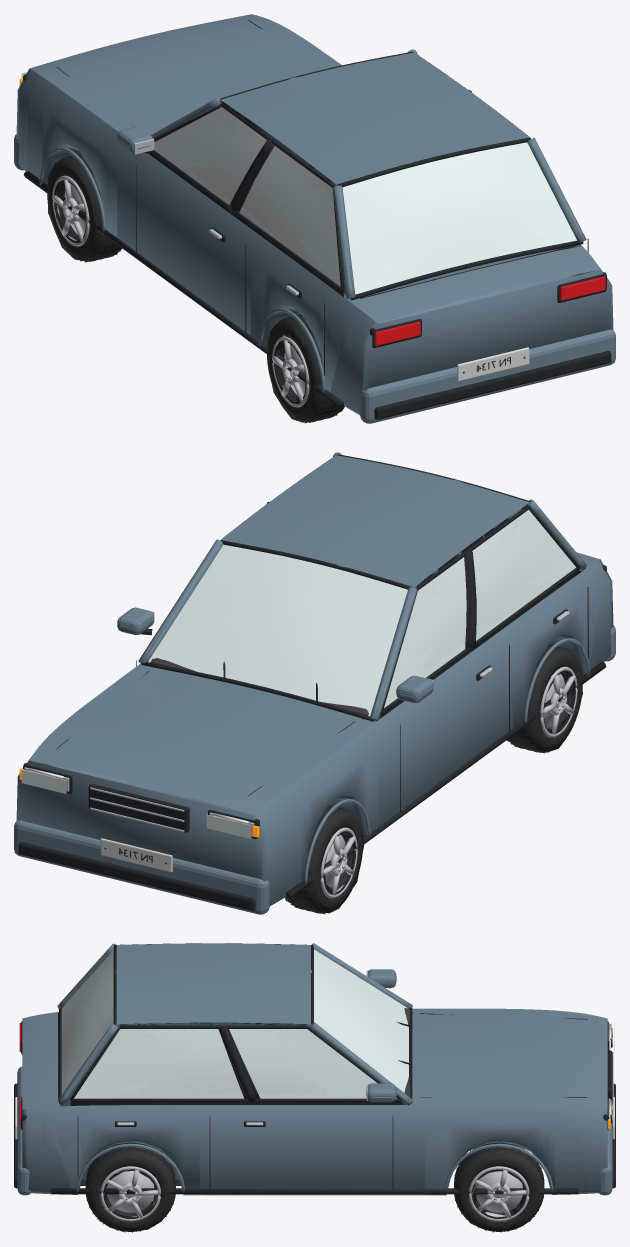
Rendered from VehicleHatch.fbx.
3 renders of one model, top to bottom at view 1: azimuth 30°, elevation 25°; view 2: azimuth 150°, elevation 25°; view 3: azimuth 270°, elevation 25°, orthographic. The views are drawn at different scales.
Visible parts, largest first — view 1: VehicleHatch_Body_LOD0_Export, VehicleHatch_Glass_LOD0_Export, VehicleHatch_Body_LOD1_Export, VehicleHatch_Body_LOD2_Export, VehicleHatch_Glass_LOD1_Export, VehicleHatch_Glass_LOD2_Export, VehicleHatch_Wheel_0_LOD0_Export, VehicleHatch_Wheel_1_LOD0_Export, VehicleHatch_Wheel_0_LOD1_Export, VehicleHatch_Wheel_1_LOD1_Export, VehicleHatch_Wheel_1_LOD2_Export, VehicleHatch_Wheel_0_LOD2_Export; view 2: VehicleHatch_Body_LOD0_Export, VehicleHatch_Glass_LOD0_Export, VehicleHatch_Body_LOD2_Export, VehicleHatch_Body_LOD1_Export, VehicleHatch_Glass_LOD1_Export, VehicleHatch_Glass_LOD2_Export, VehicleHatch_Wheel_0_LOD0_Export, VehicleHatch_Wheel_1_LOD0_Export, VehicleHatch_Wheel_1_LOD1_Export, VehicleHatch_Wheel_0_LOD1_Export, VehicleHatch_Wheel_1_LOD2_Export, VehicleHatch_Wheel_0_LOD2_Export; view 3: VehicleHatch_Body_LOD0_Export, VehicleHatch_Glass_LOD0_Export, VehicleHatch_Body_LOD2_Export, VehicleHatch_Body_LOD1_Export, VehicleHatch_Glass_LOD1_Export, VehicleHatch_Wheel_3_LOD0_Export, VehicleHatch_Wheel_2_LOD0_Export, VehicleHatch_Glass_LOD2_Export, VehicleHatch_Wheel_2_LOD1_Export, VehicleHatch_Wheel_3_LOD1_Export, VehicleHatch_Wheel_2_LOD2_Export, VehicleHatch_Wheel_3_LOD2_Export.
Boxes of the visible parts, <box> form: VehicleHatch_Body_LOD0_Export: <box>14,14,615,423</box>; VehicleHatch_Glass_LOD0_Export: <box>21,71,576,294</box>; VehicleHatch_Body_LOD1_Export: <box>16,16,615,423</box>; VehicleHatch_Body_LOD2_Export: <box>15,21,614,422</box>; VehicleHatch_Glass_LOD1_Export: <box>154,107,569,289</box>; VehicleHatch_Glass_LOD2_Export: <box>157,108,563,284</box>; VehicleHatch_Wheel_0_LOD0_Export: <box>267,314,343,423</box>; VehicleHatch_Wheel_1_LOD0_Export: <box>47,153,121,262</box>; VehicleHatch_Wheel_0_LOD1_Export: <box>267,319,343,422</box>; VehicleHatch_Wheel_1_LOD1_Export: <box>47,158,121,261</box>; VehicleHatch_Wheel_1_LOD2_Export: <box>48,158,100,260</box>; VehicleHatch_Wheel_0_LOD2_Export: <box>269,320,344,422</box>; VehicleHatch_Body_LOD0_Export: <box>14,452,615,914</box>; VehicleHatch_Glass_LOD0_Export: <box>21,513,575,838</box>; VehicleHatch_Body_LOD2_Export: <box>14,453,614,914</box>; VehicleHatch_Body_LOD1_Export: <box>14,453,613,914</box>; VehicleHatch_Glass_LOD1_Export: <box>159,509,564,706</box>; VehicleHatch_Glass_LOD2_Export: <box>165,516,562,700</box>; VehicleHatch_Wheel_0_LOD0_Export: <box>507,644,582,753</box>; VehicleHatch_Wheel_1_LOD0_Export: <box>286,805,362,914</box>; VehicleHatch_Wheel_1_LOD1_Export: <box>286,810,361,913</box>; VehicleHatch_Wheel_0_LOD1_Export: <box>509,649,582,751</box>; VehicleHatch_Wheel_1_LOD2_Export: <box>285,810,364,913</box>; VehicleHatch_Wheel_0_LOD2_Export: <box>506,651,582,752</box>; VehicleHatch_Body_LOD0_Export: <box>14,943,615,1195</box>; VehicleHatch_Glass_LOD0_Export: <box>61,952,614,1127</box>; VehicleHatch_Body_LOD2_Export: <box>14,943,615,1195</box>; VehicleHatch_Body_LOD1_Export: <box>16,943,613,1195</box>; VehicleHatch_Glass_LOD1_Export: <box>61,951,408,1098</box>; VehicleHatch_Wheel_3_LOD0_Export: <box>454,1142,544,1232</box>; VehicleHatch_Wheel_2_LOD0_Export: <box>85,1142,175,1232</box>; VehicleHatch_Glass_LOD2_Export: <box>61,949,408,1098</box>; VehicleHatch_Wheel_2_LOD1_Export: <box>87,1144,174,1231</box>; VehicleHatch_Wheel_3_LOD1_Export: <box>455,1145,542,1231</box>; VehicleHatch_Wheel_2_LOD2_Export: <box>87,1143,174,1231</box>; VehicleHatch_Wheel_3_LOD2_Export: <box>455,1154,540,1231</box>.
Size of the model in its own units: 2.04 by 1.53 by 4.17.
